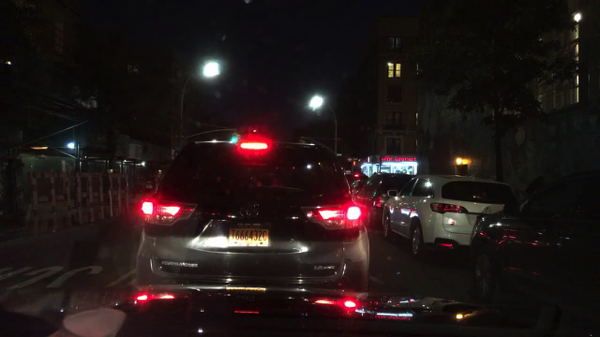car: (136, 140, 369, 298), (470, 169, 599, 324), (382, 173, 522, 260), (357, 173, 415, 229), (350, 180, 367, 200), (345, 174, 369, 186)
traffic light: (232, 134, 237, 141)
traffic sign: (347, 157, 359, 162), (337, 153, 341, 157)
